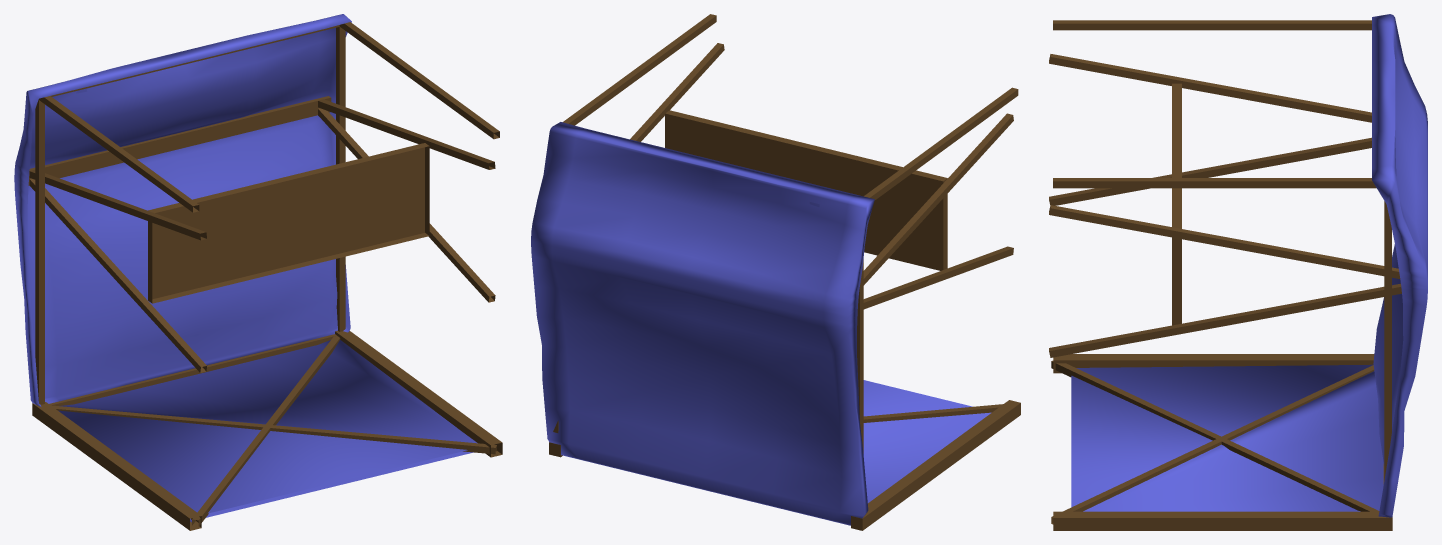
File: Market_Cool_Stall.fbx
3 renders of one model, left to right at view 1: azimuth 30°, elevation 25°; view 2: azimuth 150°, elevation 25°; view 3: azimuth 270°, elevation 25°, orthographic. The views are drawn at different scales.
Parts seen in each view (by area): view 1: Plane.001; view 2: Plane.001; view 3: Plane.001.
Part boxes in pixels (box(x1,y1,x2,y2)): Plane.001: box(14, 14, 502, 530); Plane.001: box(531, 14, 1020, 530); Plane.001: box(1049, 14, 1427, 530).
Bounding box in the file's own units: 742 × 726 × 711.
